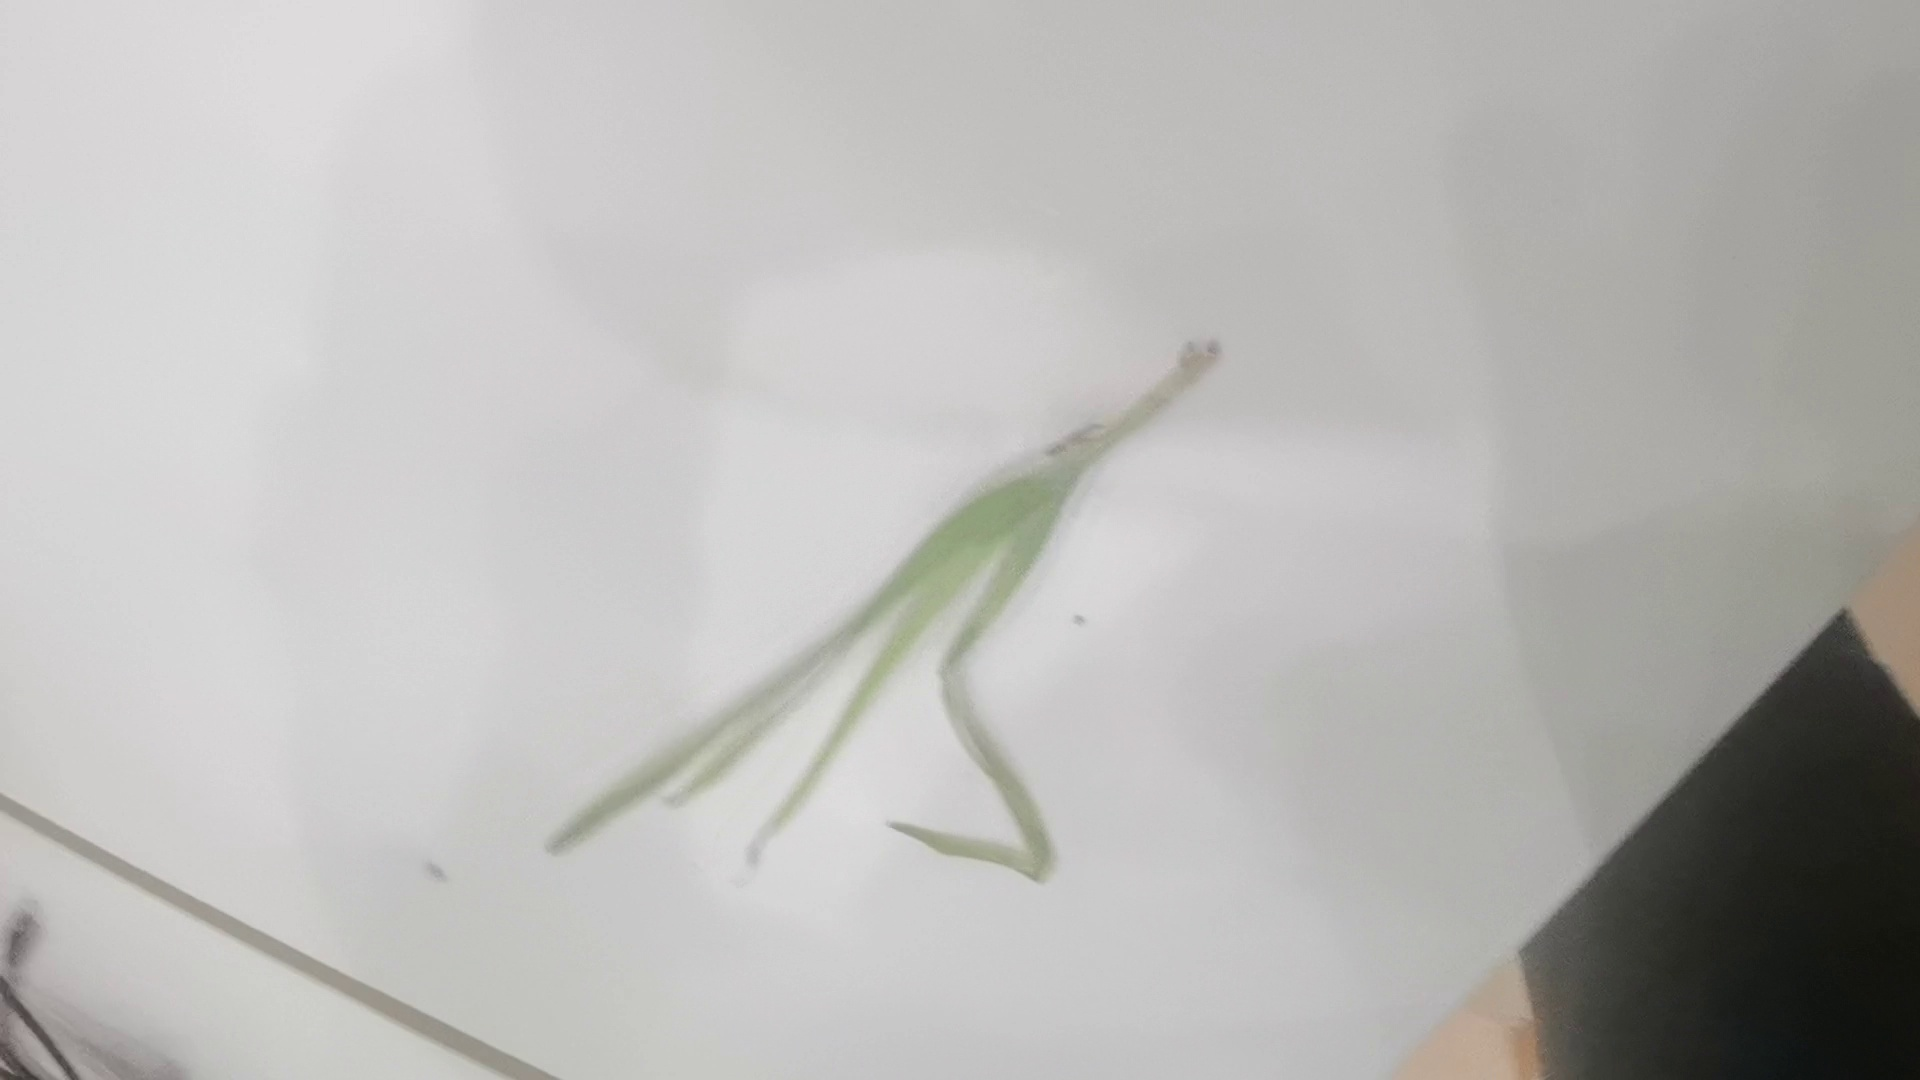chives: (541, 323, 1226, 887)
